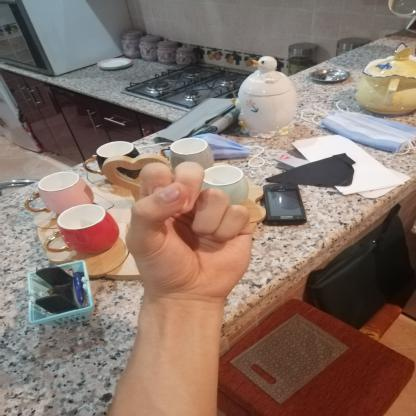QAAF: (110, 153, 278, 311)
